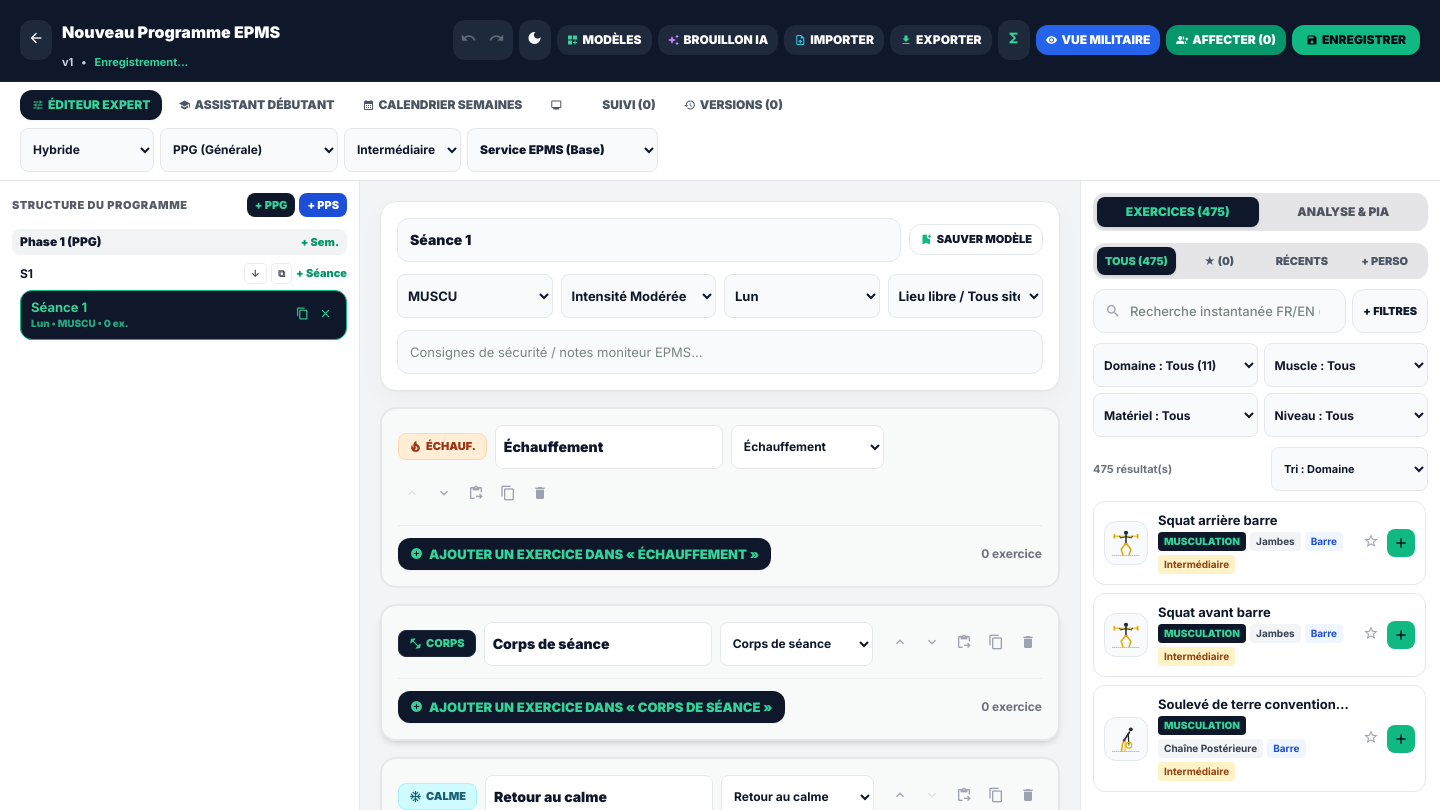
Scenario: ProgramBuilderStudio — Flux complets éditeur EPMS › affiche la structure ternaire PIA 7.1.1 par défaut et permet d’ajouter un exercice puis d’appliquer la saisie rapide
The width and height of the screenshot is (1440, 810).
Note: Ajoute un exercice (ex: Développé Couché Barre) depuis le tiroir d'exercices
Type "Développé Couché" into the search field with placeholder "Recherche instantanée FR/EN (tolère les fautes)..." at [1220, 311], box [1093,289,1346,333]
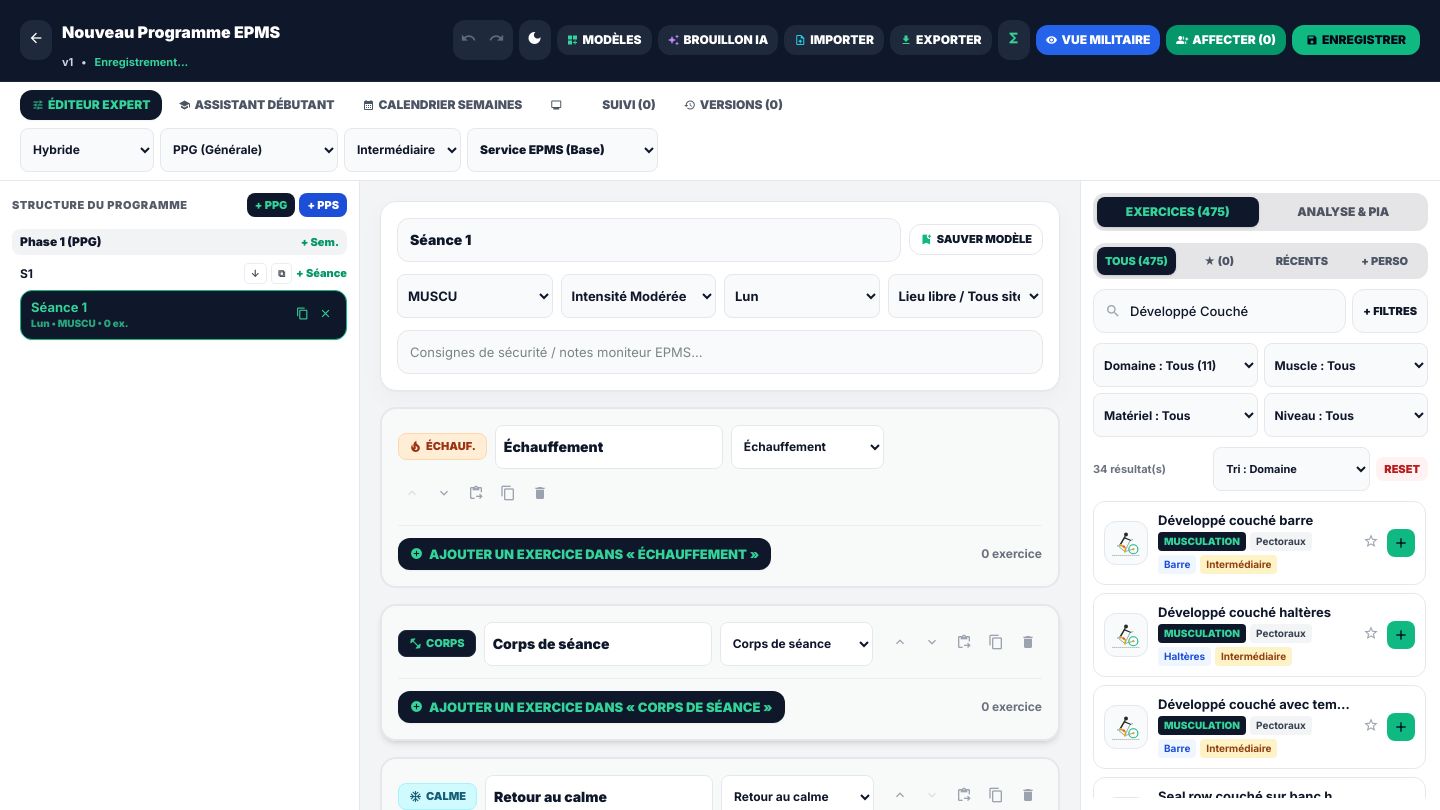
Click the text "Développé couché barre" at [1236, 520], box [1158,512,1313,528]
(page scrolled)
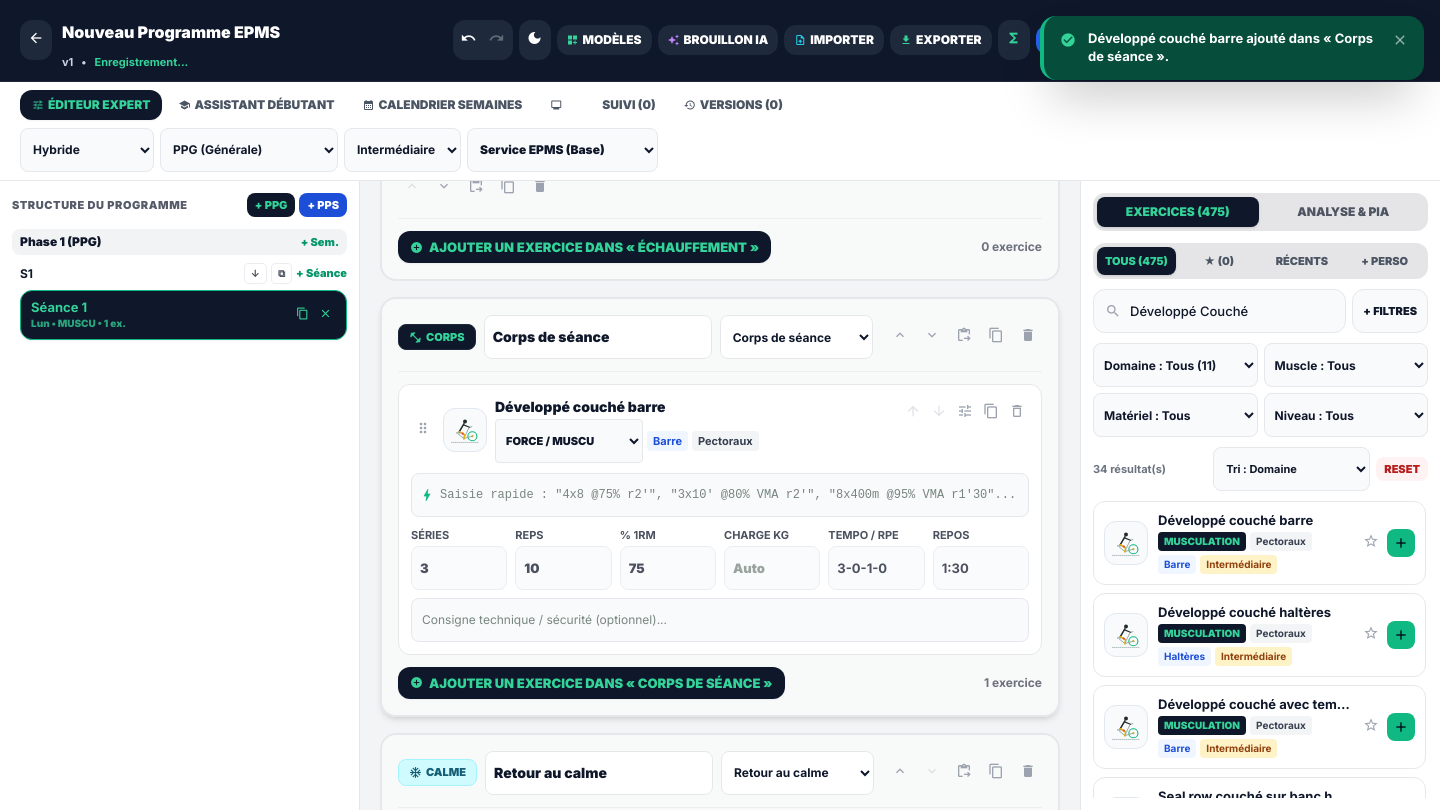
Note: Le champ de saisie rapide pour l'exercice ajouté est visible
Replace the text in the field named "Saisie rapide pour Développé Couché Barre" with "4x8 @75% r2'" at [720, 495], box [411,473,1029,517]
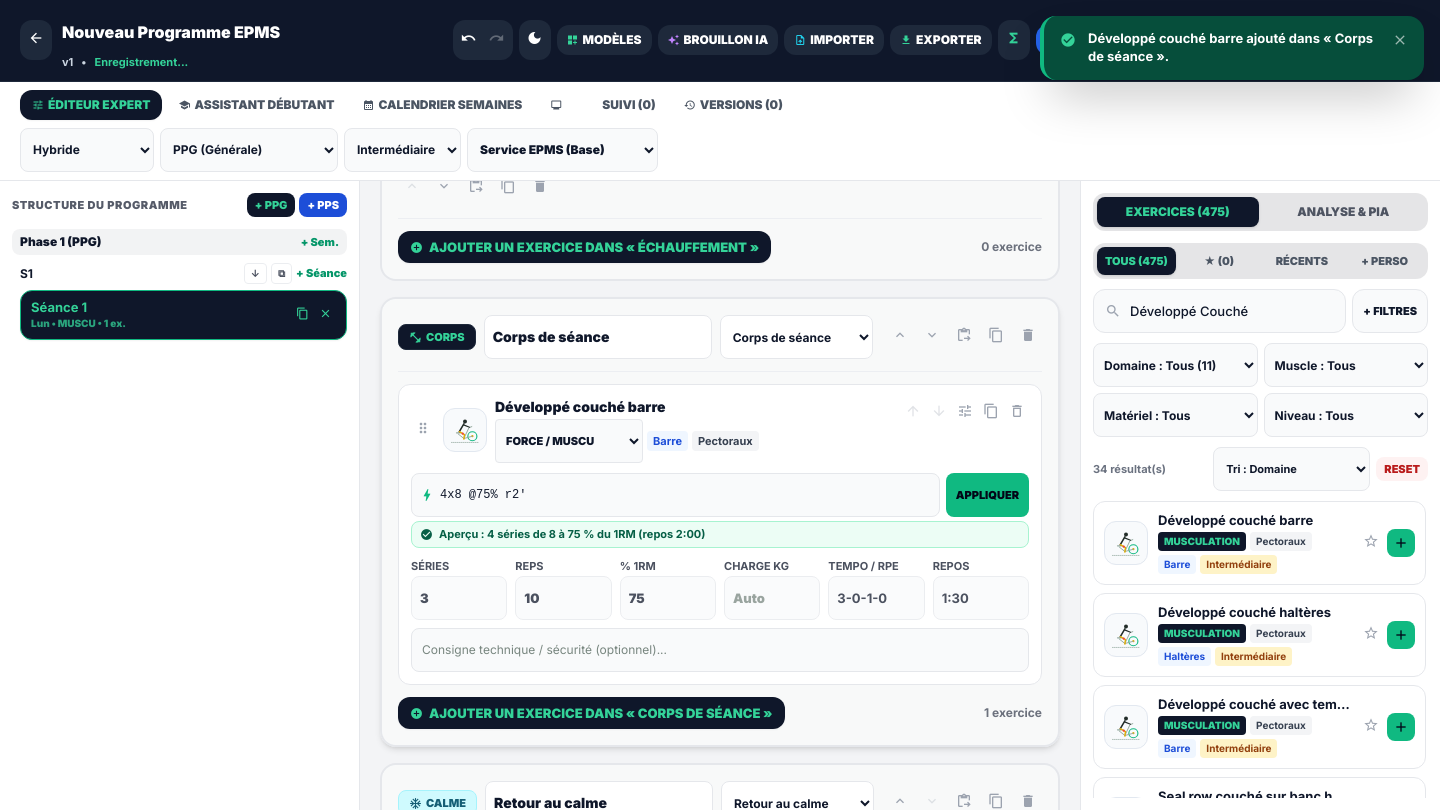
Now the text "Aperçu : 4 séries de 8 à 75 % du 1RM (repos 2:00)" is shown, box [439,526,705,542]
Note: Validation de la saisie rapide
Click the button "Appliquer" at [987, 495], box [946,473,1029,517]
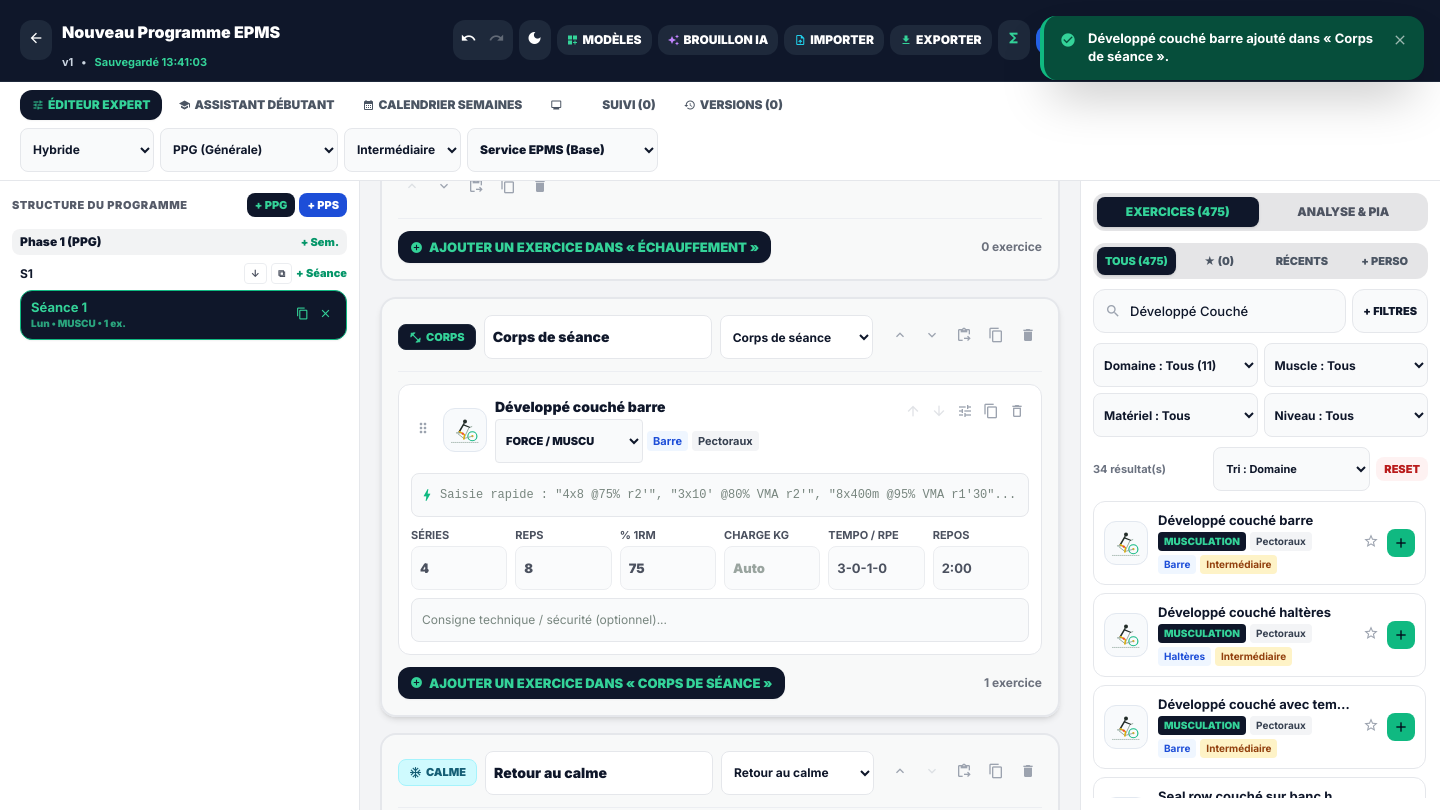
Now the field named "Saisie rapide pour Développé Couché Barre" is empty, box [411,473,1029,517]
